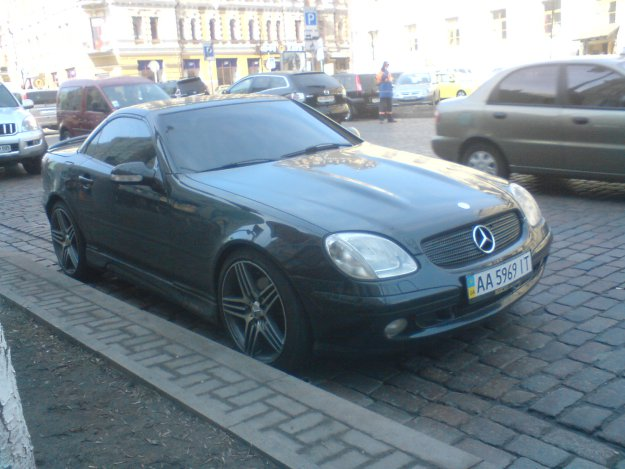car: (36, 91, 553, 357)
plate: (464, 253, 535, 296)
